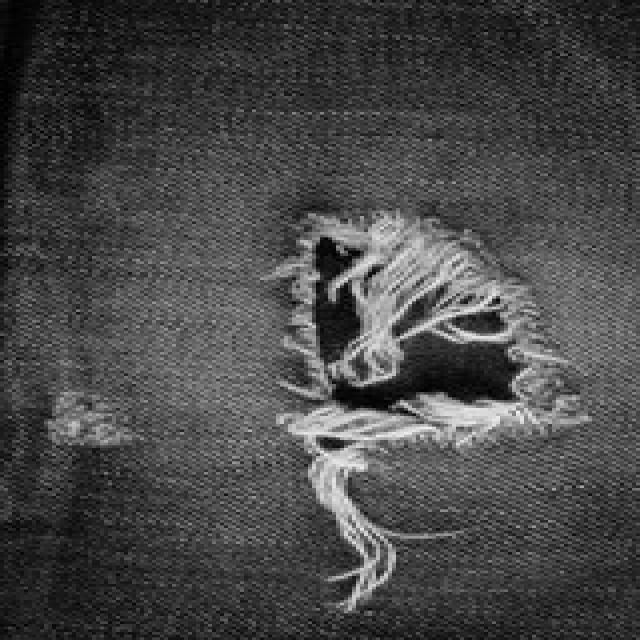Hole: (267, 212, 591, 613), (47, 392, 131, 446)
